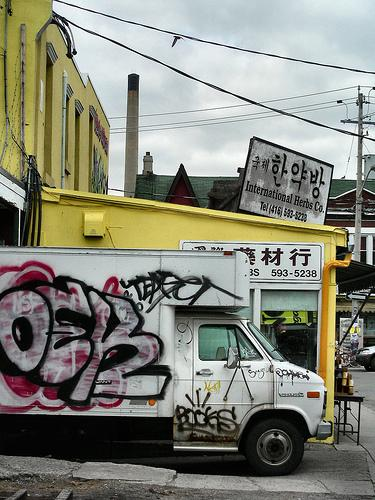truck: (0, 244, 332, 476)
